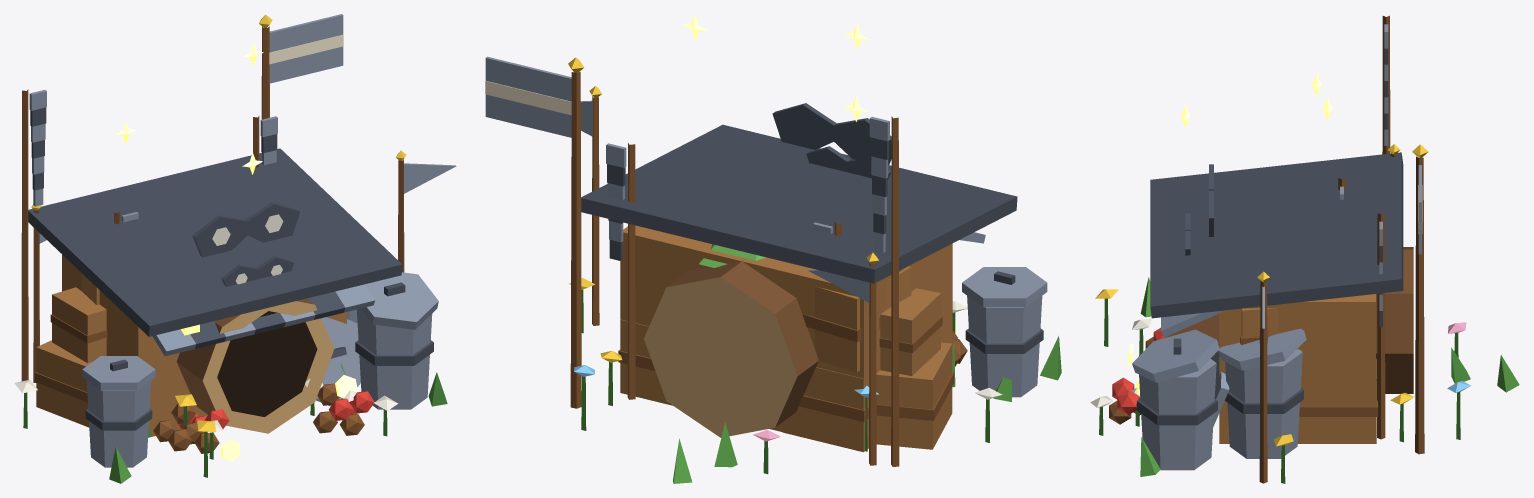
The model's file is raccoon-stash-den.glb.
3 renders of one model, left to right at view 1: azimuth 30°, elevation 25°; view 2: azimuth 150°, elevation 25°; view 3: azimuth 270°, elevation 25°, orthographic. The views are drawn at different scales.
Visible parts, largest first — view 1: lv3, lv2, lv1; view 2: lv3, lv2; view 3: lv3, lv2, lv1.
Boxes of the visible parts, x1,y1,x2,y2 form: lv3: (14,14,456,483); lv2: (31,116,357,459); lv1: (114,211,360,444); lv3: (485,14,1061,483); lv2: (600,143,1011,467); lv3: (1090,15,1519,483); lv2: (1131,144,1470,458); lv1: (1211,178,1345,427).
Size of the model in its own units: 1.91 by 1.39 by 1.65.
